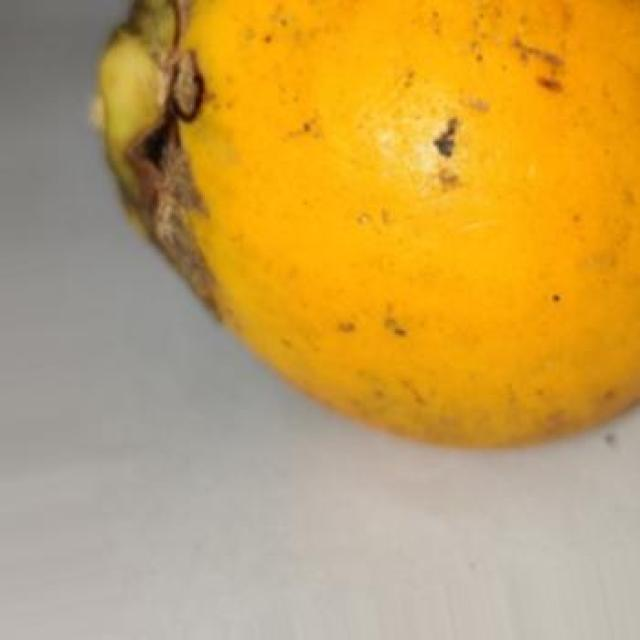good: (99, 0, 638, 453)
